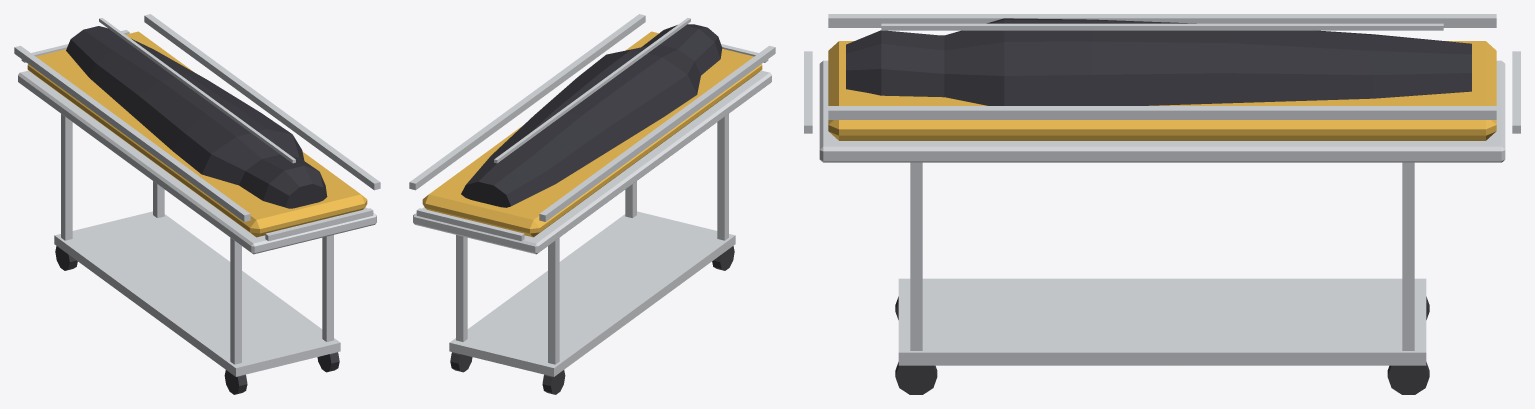
File: stretcher.glb
3 views of the same model, side by side, from view 1: azimuth 30°, elevation 25°; view 2: azimuth 150°, elevation 25°; view 3: azimuth 270°, elevation 25° (orthographic). The views are drawn at different scales.
Parts seen in each view (by area): view 1: base, body_bag, mattress, deck, rail, rail.001, leg.001, leg, body_bag_zip, leg.003, handle.001, castor.001 (+3 smaller); view 2: base, body_bag, mattress, deck, rail, rail.001, leg, leg.001, body_bag_zip, leg.002, handle, castor (+3 smaller); view 3: base, body_bag, mattress, deck, rail.001, rail, body_bag_zip, leg.002, leg.003, castor.002, castor.003, handle (+1 smaller).
Boxes of the visible parts, x1,y1,x2,y2 form: base: [54, 211, 340, 376]; body_bag: [66, 26, 327, 208]; mattress: [27, 31, 367, 237]; deck: [18, 70, 376, 254]; rail: [14, 45, 250, 221]; rail.001: [144, 14, 380, 190]; leg.001: [230, 238, 241, 364]; leg: [61, 114, 72, 240]; body_bag_zip: [99, 18, 295, 163]; leg.003: [322, 235, 333, 341]; handle.001: [265, 208, 373, 241]; castor.001: [224, 370, 247, 394]; base: [449, 211, 735, 376]; body_bag: [461, 24, 722, 207]; mattress: [422, 31, 762, 237]; deck: [413, 70, 771, 254]; rail: [539, 45, 775, 221]; rail.001: [409, 14, 645, 190]; leg: [548, 238, 559, 364]; leg.001: [717, 114, 728, 240]; body_bag_zip: [494, 18, 690, 163]; leg.002: [456, 235, 467, 341]; handle: [416, 208, 524, 241]; castor: [542, 370, 565, 394]; base: [898, 278, 1426, 365]; body_bag: [846, 18, 1471, 105]; mattress: [828, 41, 1496, 140]; deck: [819, 60, 1505, 162]; rail.001: [828, 106, 1496, 119]; rail: [828, 14, 1496, 27]; body_bag_zip: [881, 23, 1443, 30]; leg.002: [1402, 162, 1414, 350]; leg.003: [910, 162, 922, 350]; castor.002: [1387, 362, 1429, 394]; castor.003: [895, 362, 937, 394]; handle: [1512, 51, 1520, 133].
Size of the model in its own units: 0.65 by 1.05 by 2.04.
